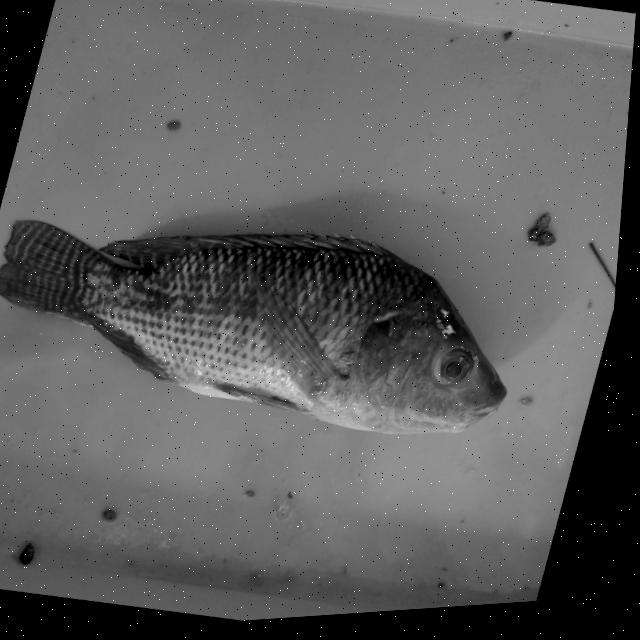Fresh: (172, 205, 481, 464), (434, 343, 491, 406)
